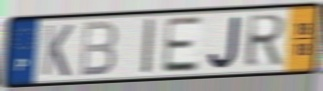B: (78, 19, 119, 79)
E: (160, 15, 203, 75)
I: (141, 16, 157, 77)
J: (207, 15, 242, 71)
K: (40, 22, 76, 78)
R: (244, 13, 288, 70)
